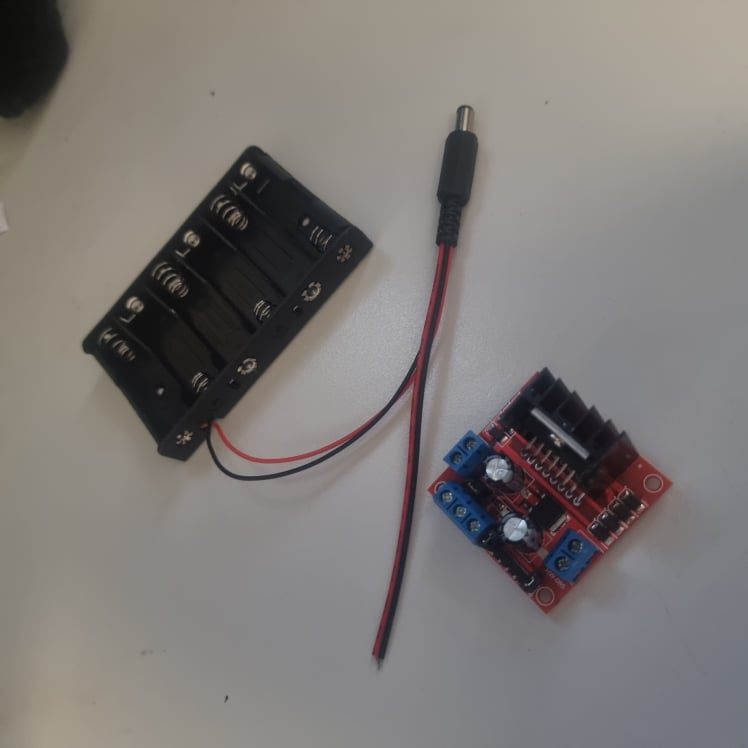BATTERY BOX: (81, 147, 374, 464)
MOTOR: (423, 368, 675, 616)
